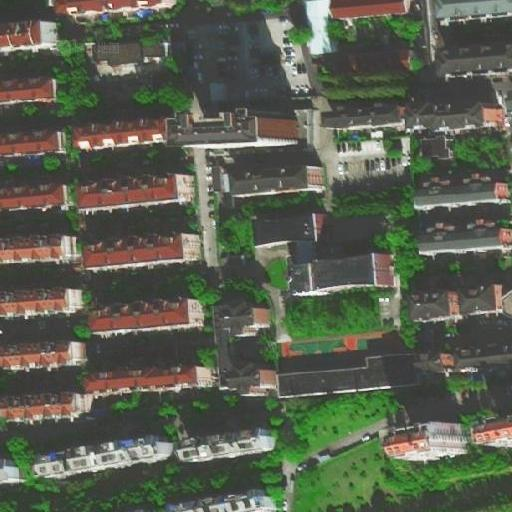building: (282, 356, 422, 402), (36, 431, 165, 478), (291, 255, 392, 298), (97, 297, 204, 333), (90, 361, 205, 393), (99, 232, 201, 268), (232, 164, 329, 201), (86, 172, 191, 206), (184, 117, 300, 146), (414, 285, 506, 321), (184, 19, 241, 77), (80, 115, 176, 149), (185, 421, 274, 455), (385, 423, 469, 458), (258, 207, 328, 247), (439, 41, 511, 79), (173, 486, 276, 512), (325, 99, 408, 130), (411, 97, 500, 125), (422, 223, 511, 251), (420, 179, 510, 206), (0, 388, 81, 417), (0, 339, 83, 366), (1, 287, 84, 314), (332, 50, 414, 77), (1, 232, 77, 261), (2, 181, 75, 208), (0, 129, 70, 156), (0, 21, 59, 53), (222, 305, 272, 341), (448, 341, 511, 369), (1, 80, 57, 108), (305, 2, 333, 57), (228, 369, 278, 397), (90, 41, 143, 67), (474, 412, 512, 440), (420, 135, 451, 161), (207, 169, 234, 196), (1, 456, 23, 484), (147, 33, 162, 63)
